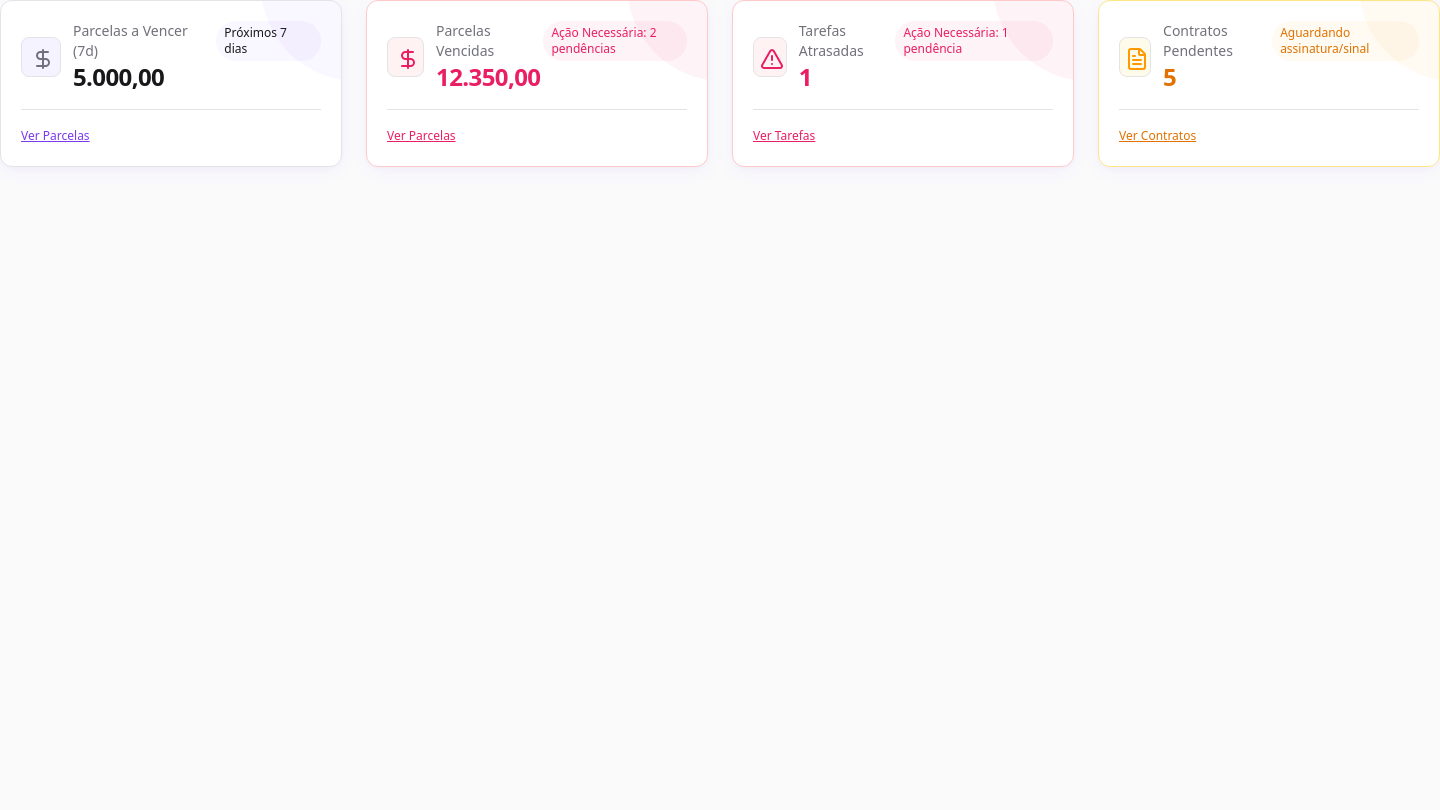
Test: StatsCards › opens urgent tasks Sheet and renders content
The image size is (1440, 810).
Click the button "Ver Tarefas" at (784, 136), box [753,128,815,144]
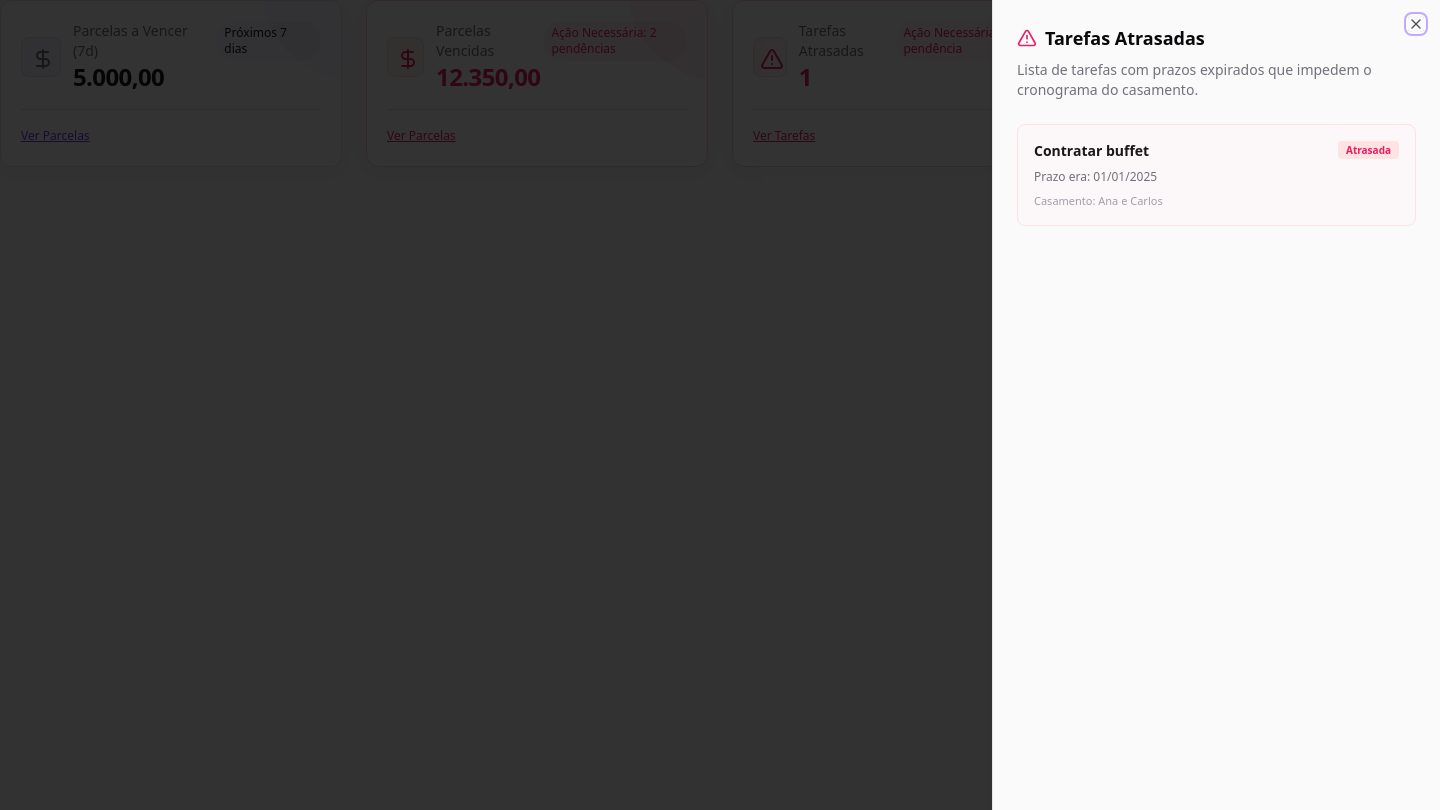
Check: the text "Contratar buffet" is shown, box [1034,141,1149,161]
Check: the text "Casamento: Ana e Carlos" is shown, box [1034,193,1163,208]
